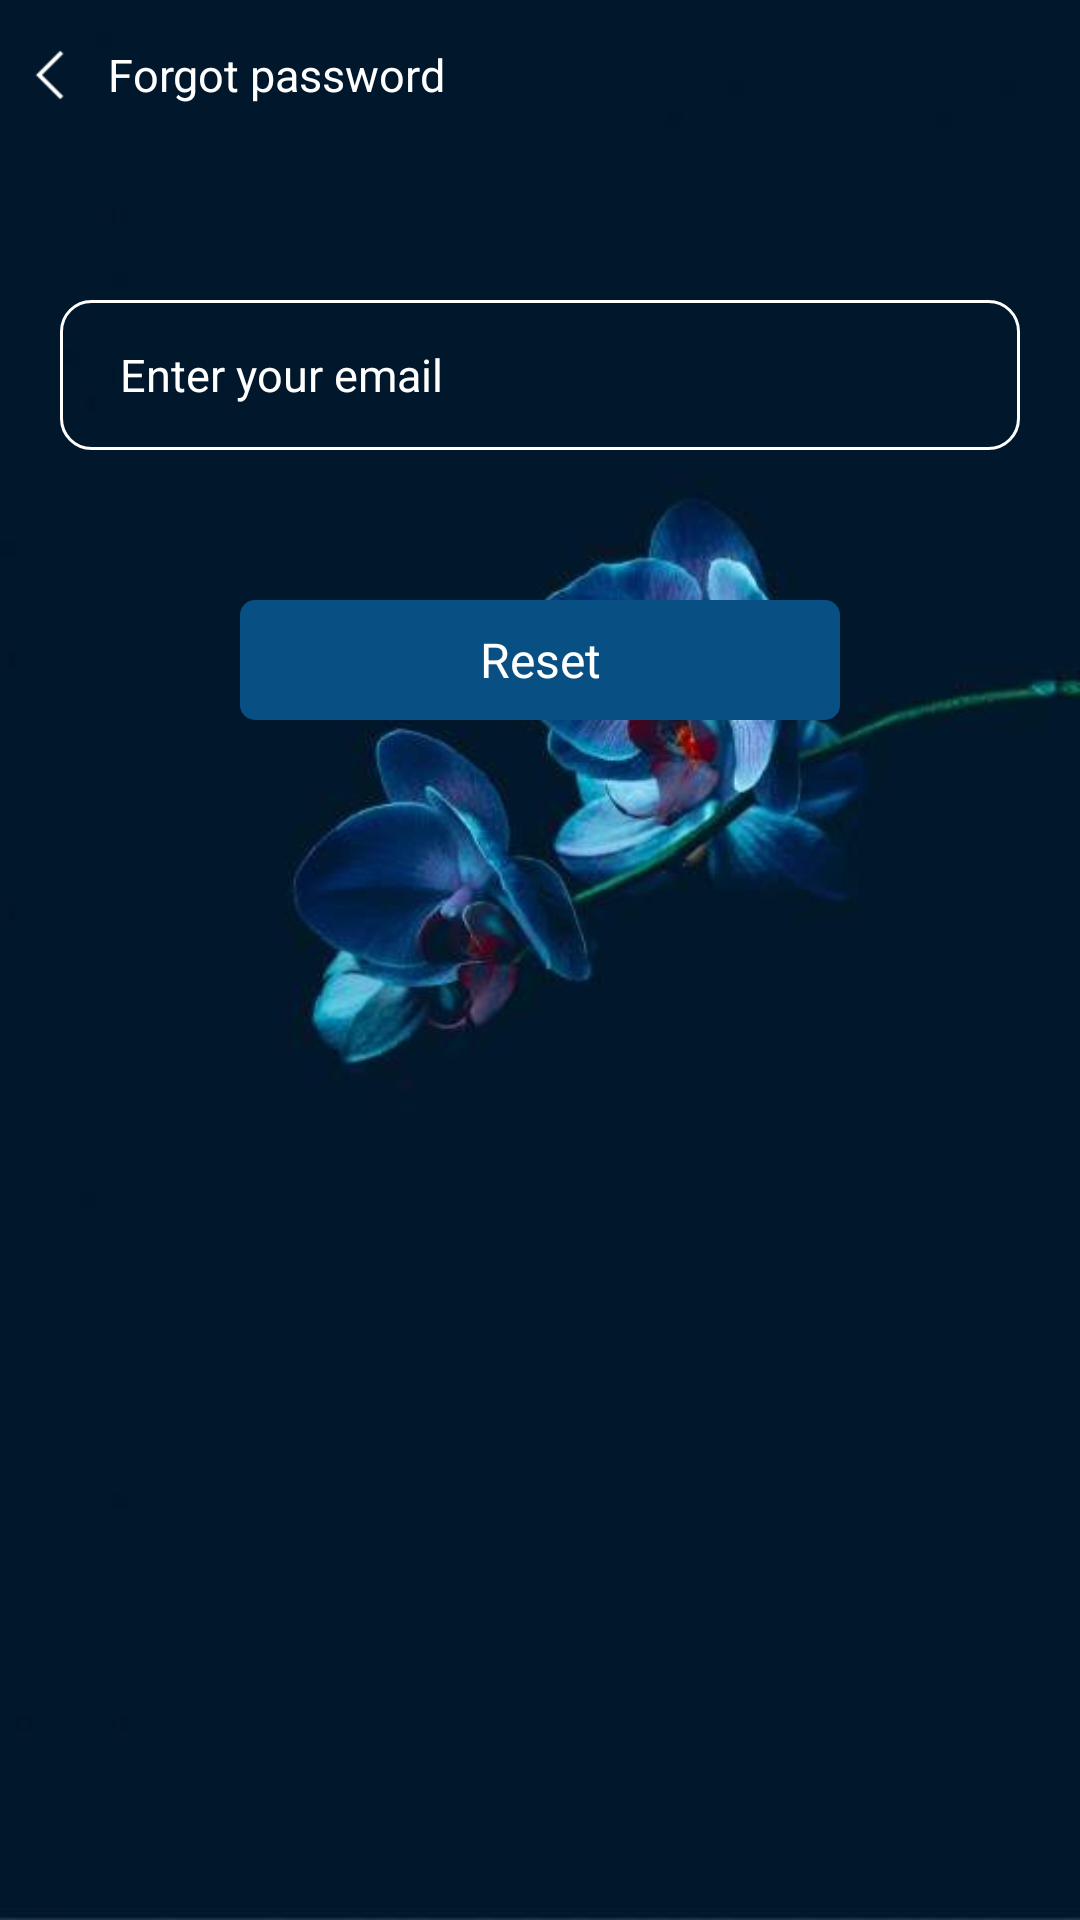

Named icons in this screenshot (1080 x 1920) and their centers, point (x, y):
back: point (50, 75)
